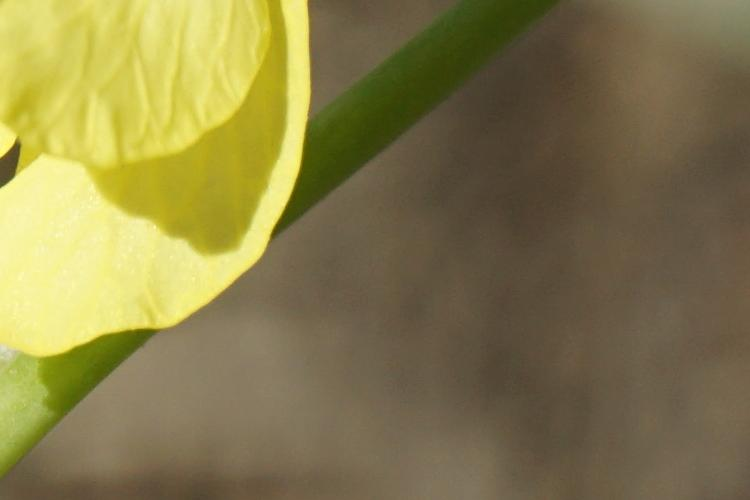yellow: (1, 3, 311, 355)
